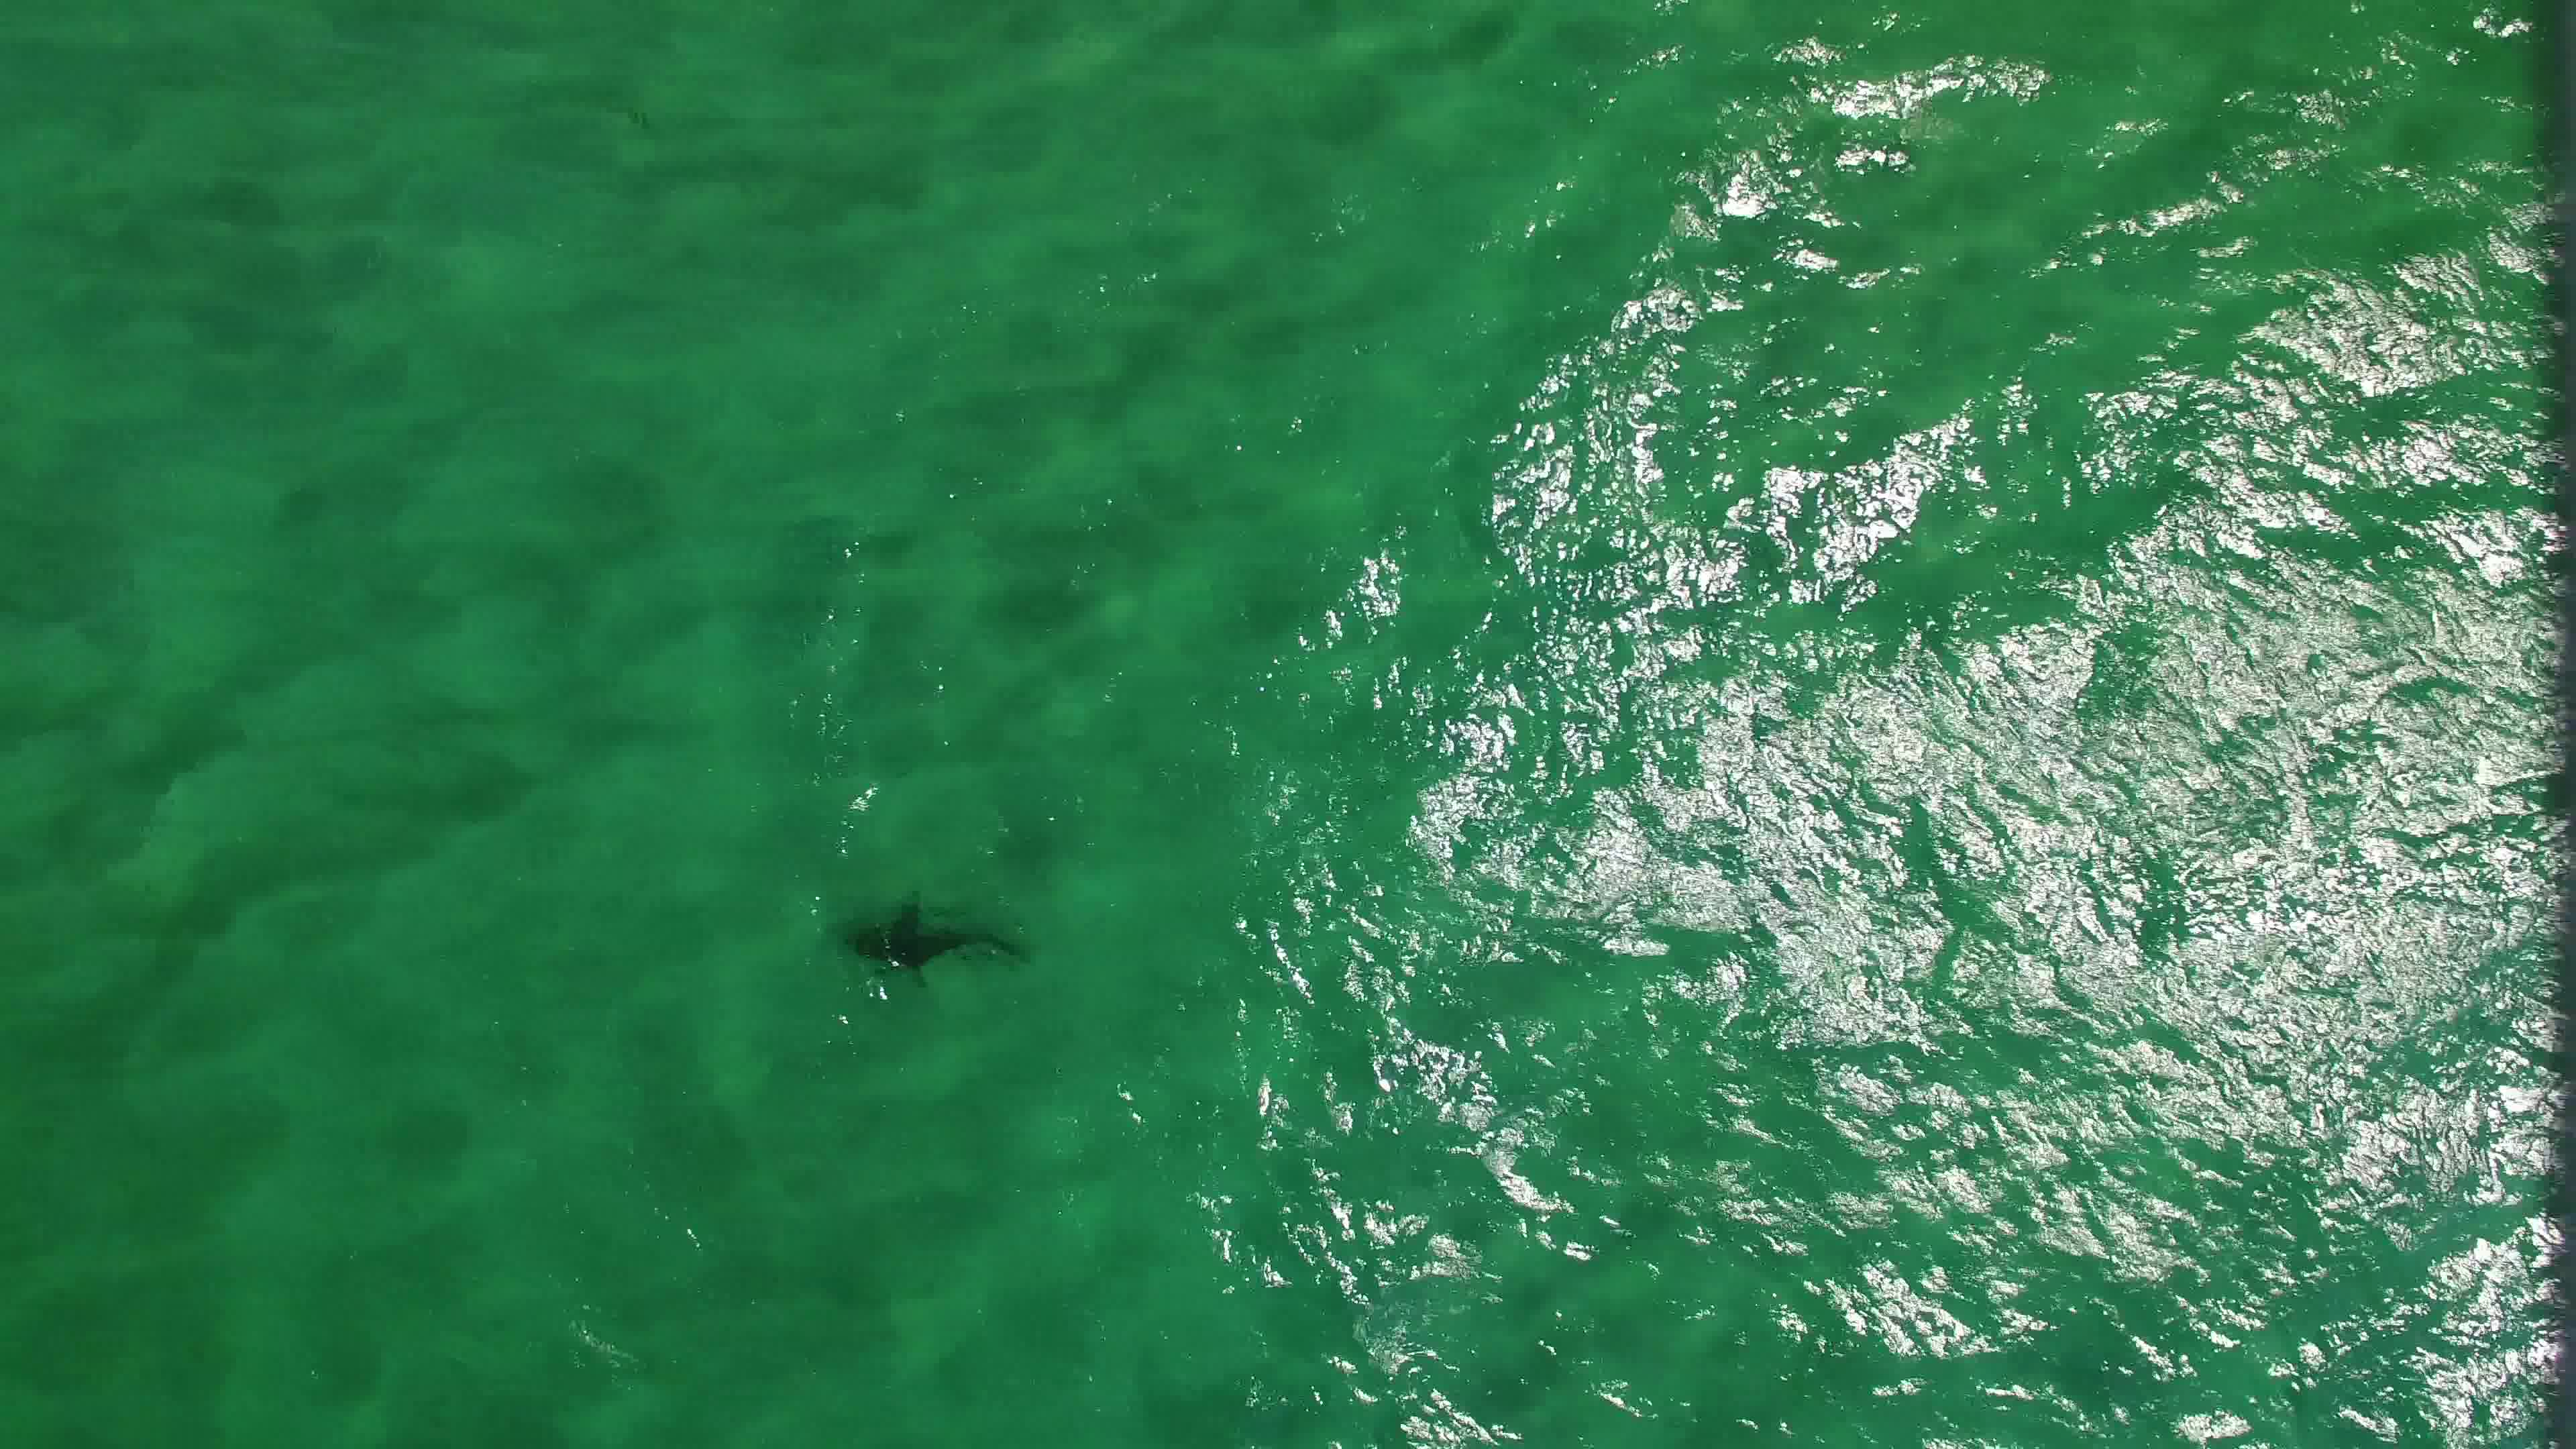shark: (839, 888, 1028, 989)
